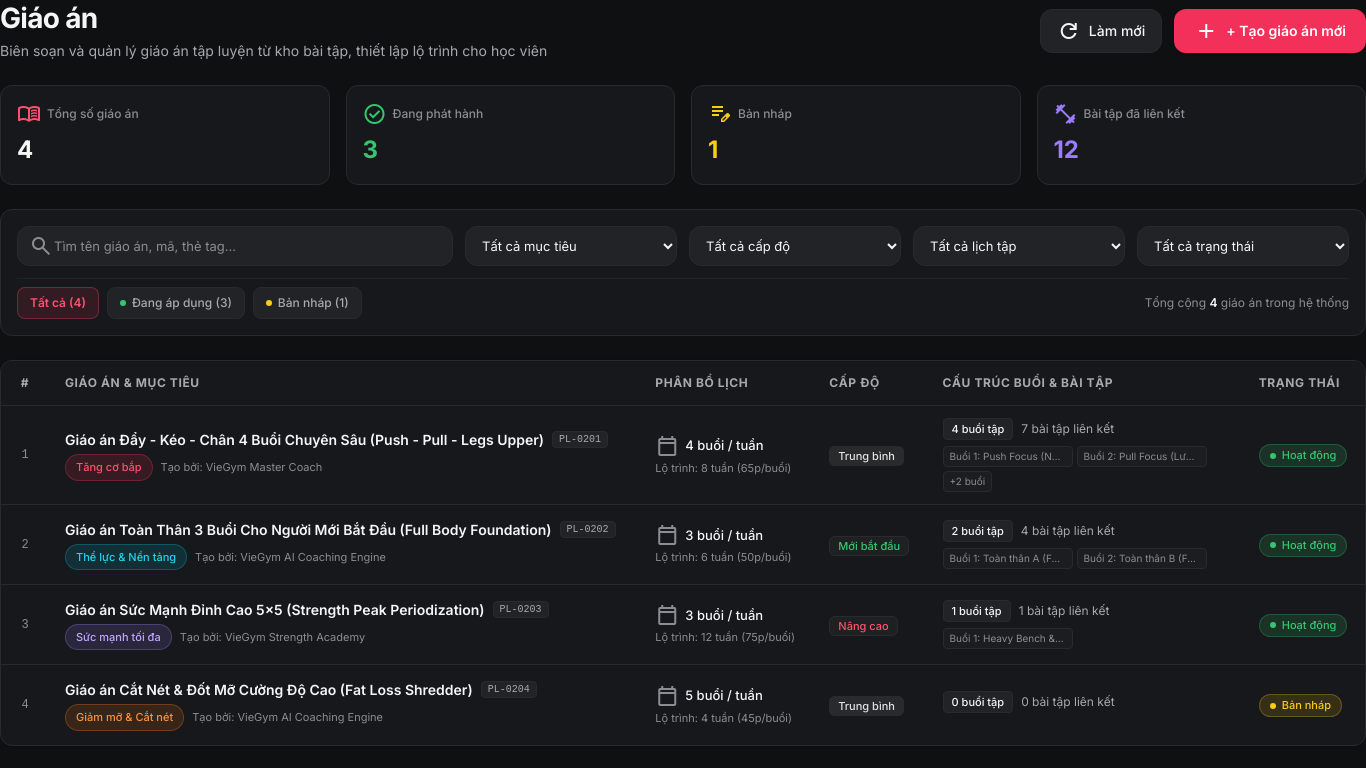
Test case: WorkoutPlanListPage › updates days list in tab 2 when changing days per week in tab 1
Click the button "+ Tạo giáo án mới": (1270, 30) [1174,8,1365,52]
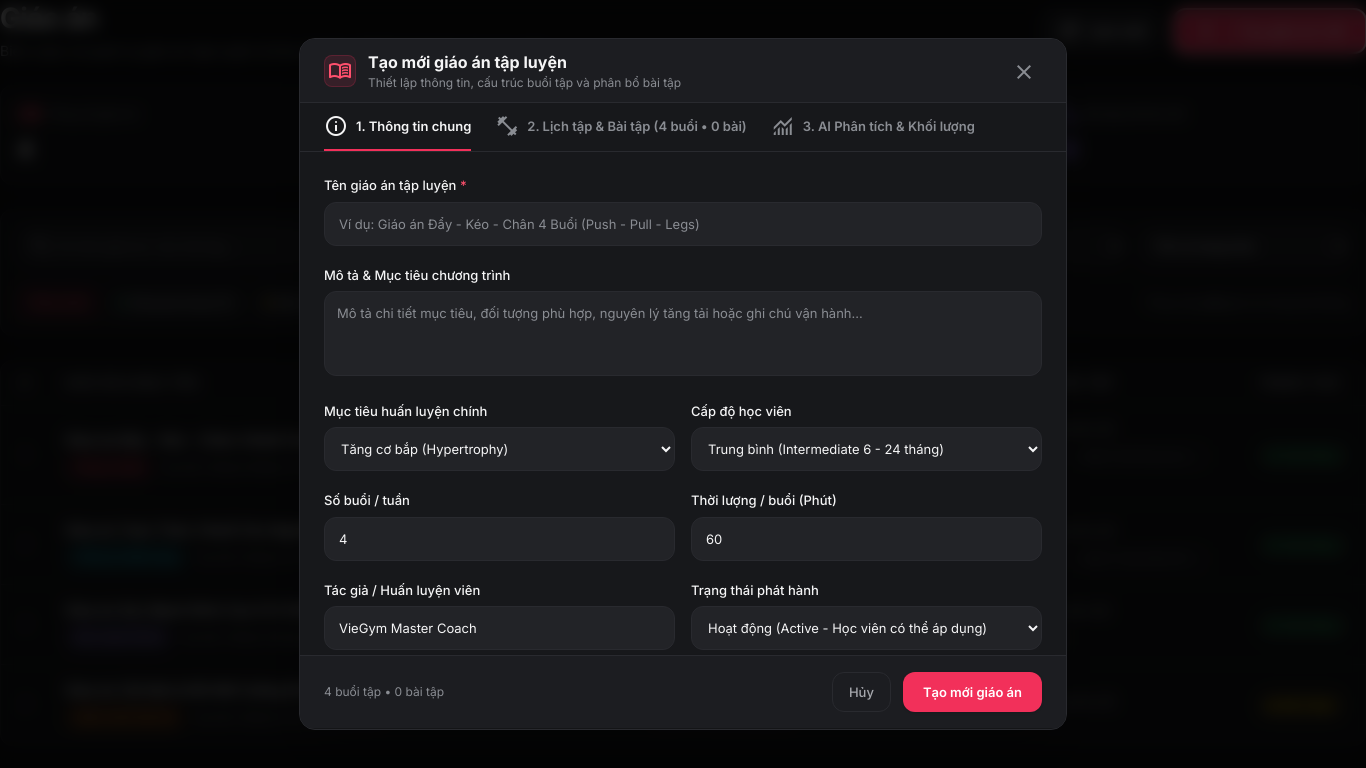
Replace the text in the number field showing "4" below "Số buổi / tuần" with "5": (500, 539) [324,517,675,561]
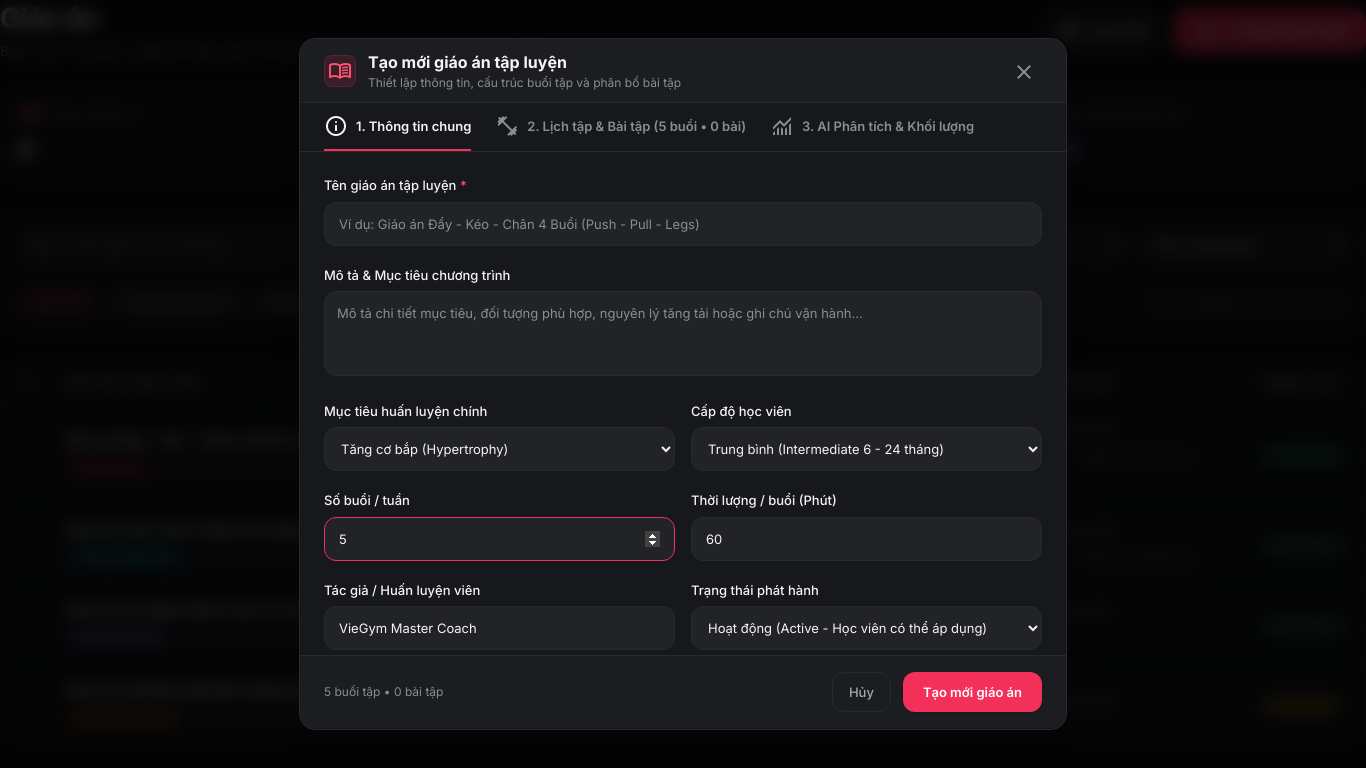
Click the button "2. Lịch tập & Bài tập (5 buổi • 0 bài)": (621, 127) [495,103,746,151]
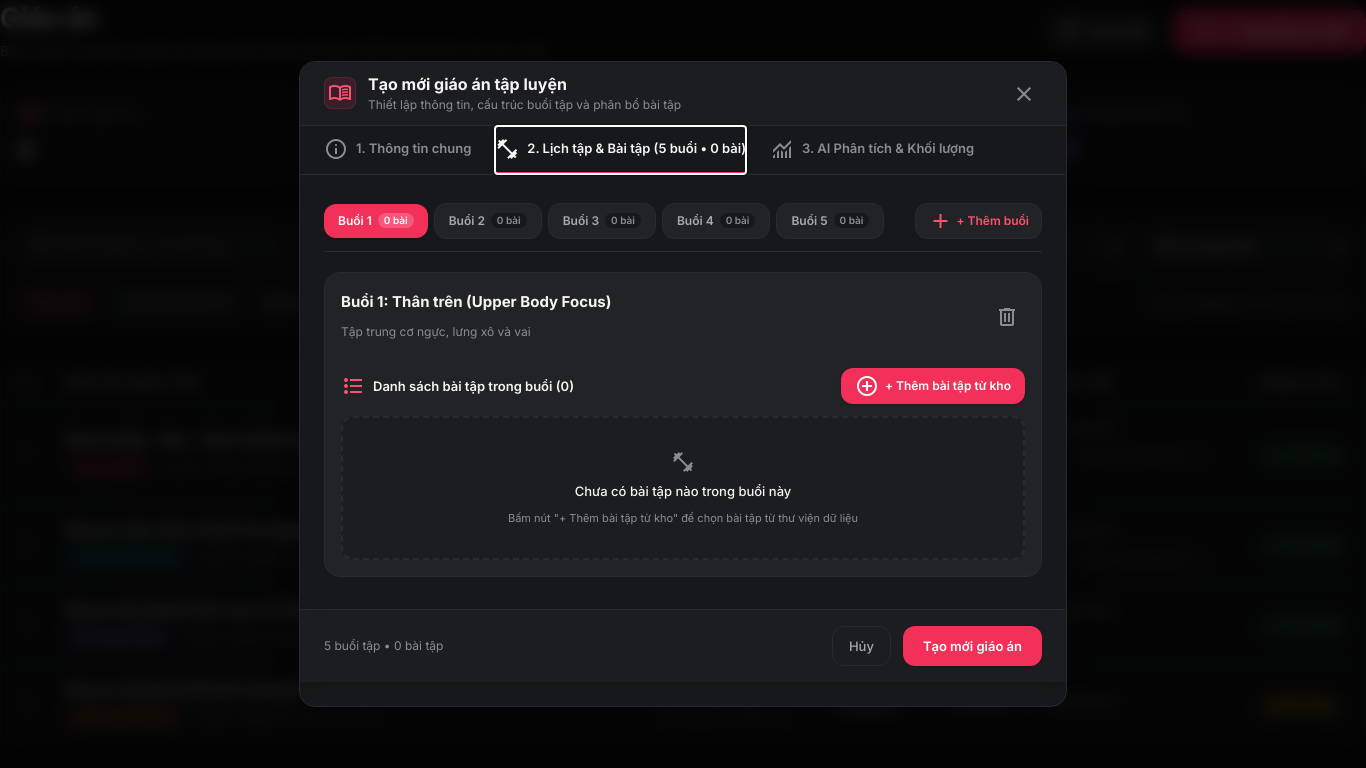
Expected: the button "Buổi 5 0 bài" is shown, [776,203,884,239]
